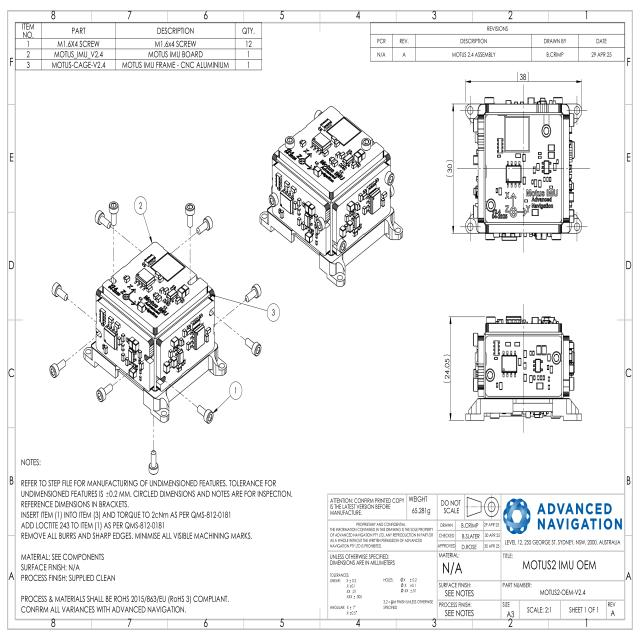dimension: (442, 353, 451, 384), (445, 158, 454, 180), (516, 70, 530, 83)
